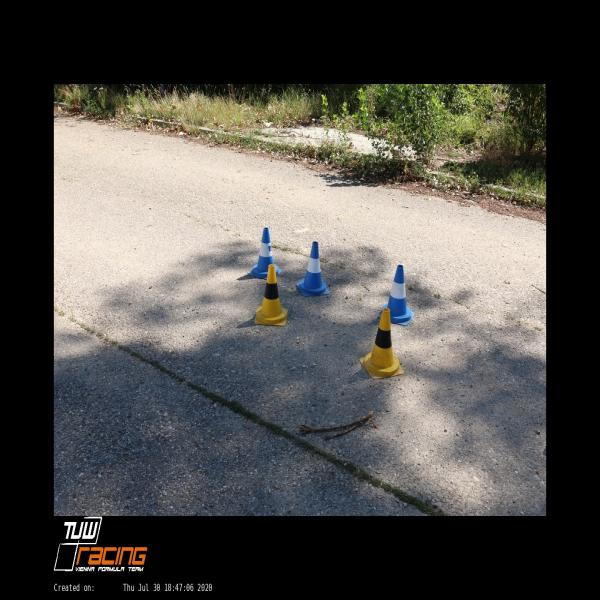blue_cone: (378, 264, 416, 326), (295, 241, 330, 297), (248, 227, 281, 279)
yellow_cone: (358, 307, 404, 379), (254, 263, 288, 326)
